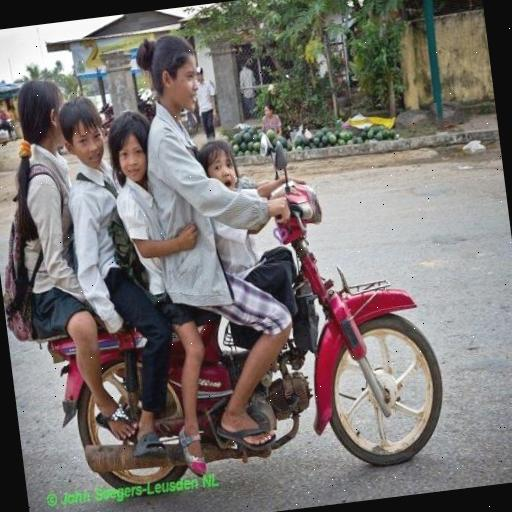no helmet: (124, 18, 228, 140)
triple riding: (0, 0, 466, 498)
